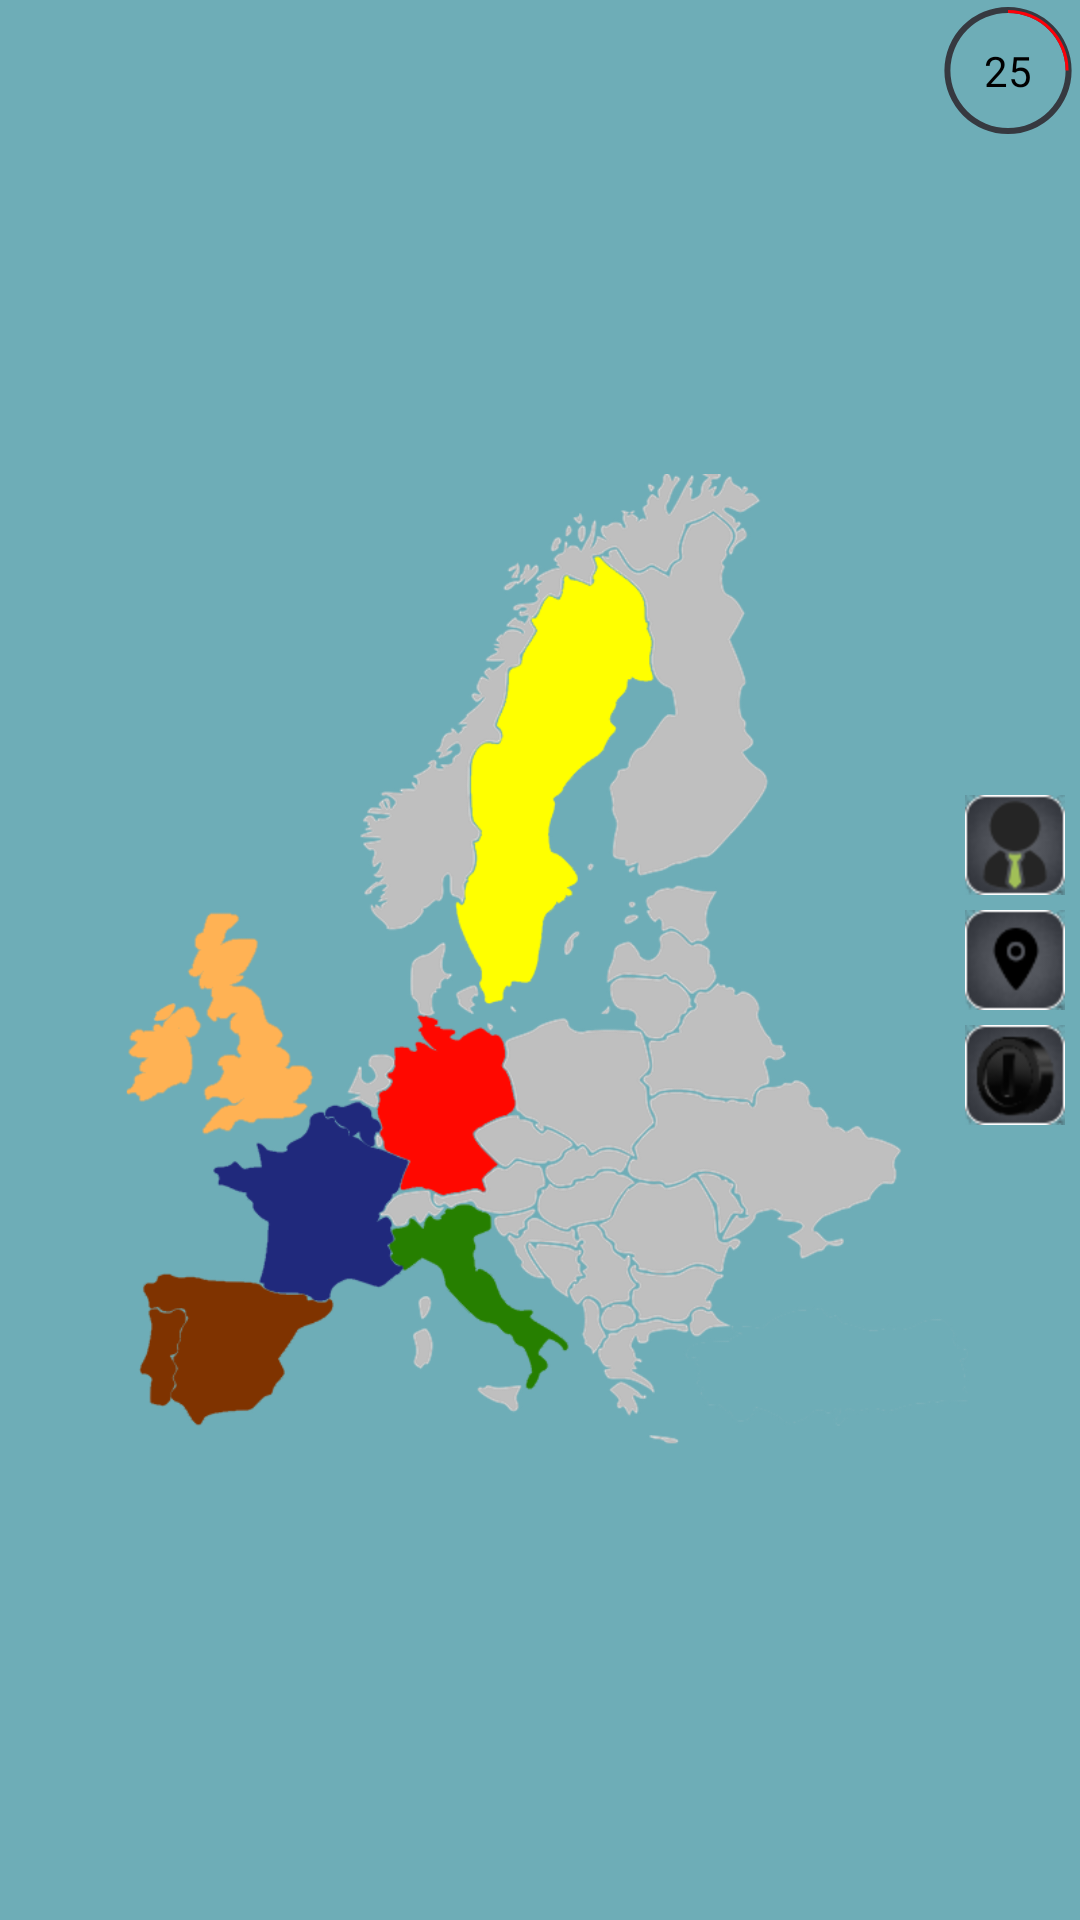

Icon bounding boxes for this 1080 × 1920 phone screenshot, format {"left": x1, "top": y1, "right": x2, "bottom": y2}:
businessperson: {"left": 965, "top": 795, "right": 1065, "bottom": 895}
coin: {"left": 965, "top": 1025, "right": 1065, "bottom": 1125}
mapsicon: {"left": 965, "top": 910, "right": 1065, "bottom": 1010}
